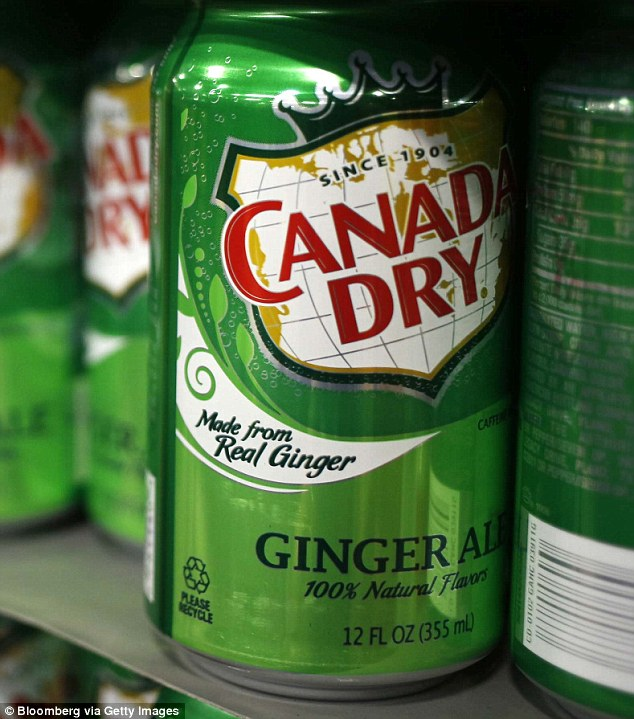Lata: (153, 1, 536, 707)
